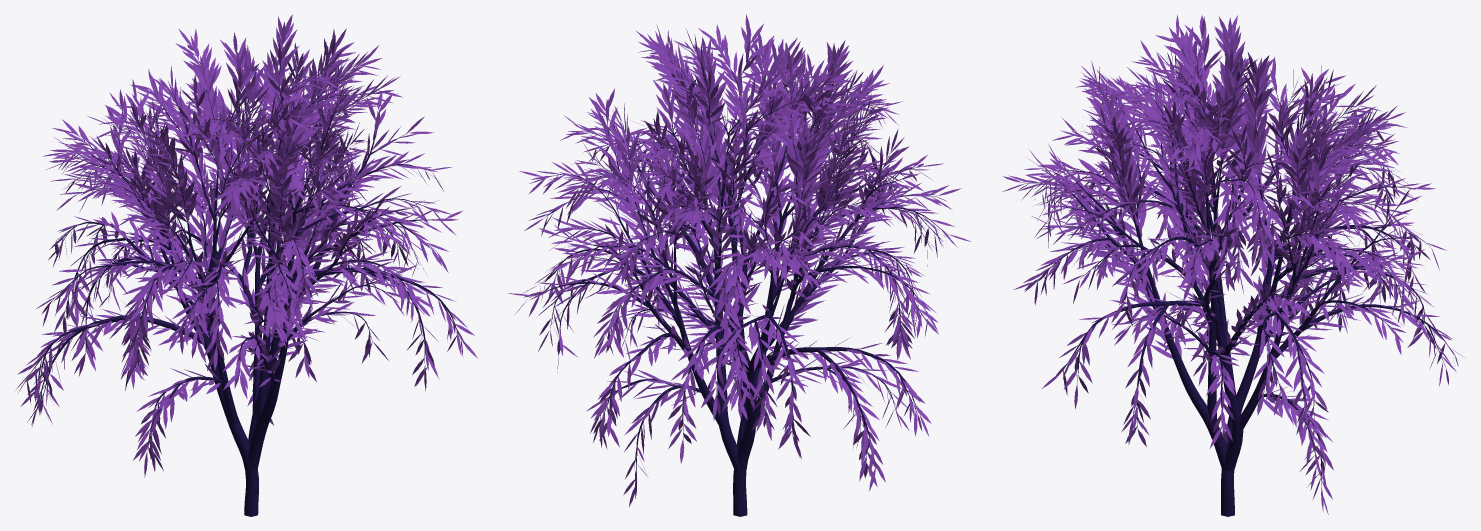
File: blue.fbx
3 renders of one model, left to right at view 1: azimuth 30°, elevation 25°; view 2: azimuth 150°, elevation 25°; view 3: azimuth 270°, elevation 25°, orthographic.
Visible parts, largest first — view 1: leaves, tree; view 2: leaves, tree; view 3: leaves, tree.
Boxes of the visible parts, x1,y1,x2,y2 form: leaves: [14, 14, 477, 477]; tree: [27, 47, 461, 516]; leaves: [508, 14, 971, 506]; tree: [529, 43, 947, 516]; leaves: [1002, 15, 1464, 514]; tree: [1022, 36, 1454, 516].
Size of the model in its own units: 586 by 666 by 582.
